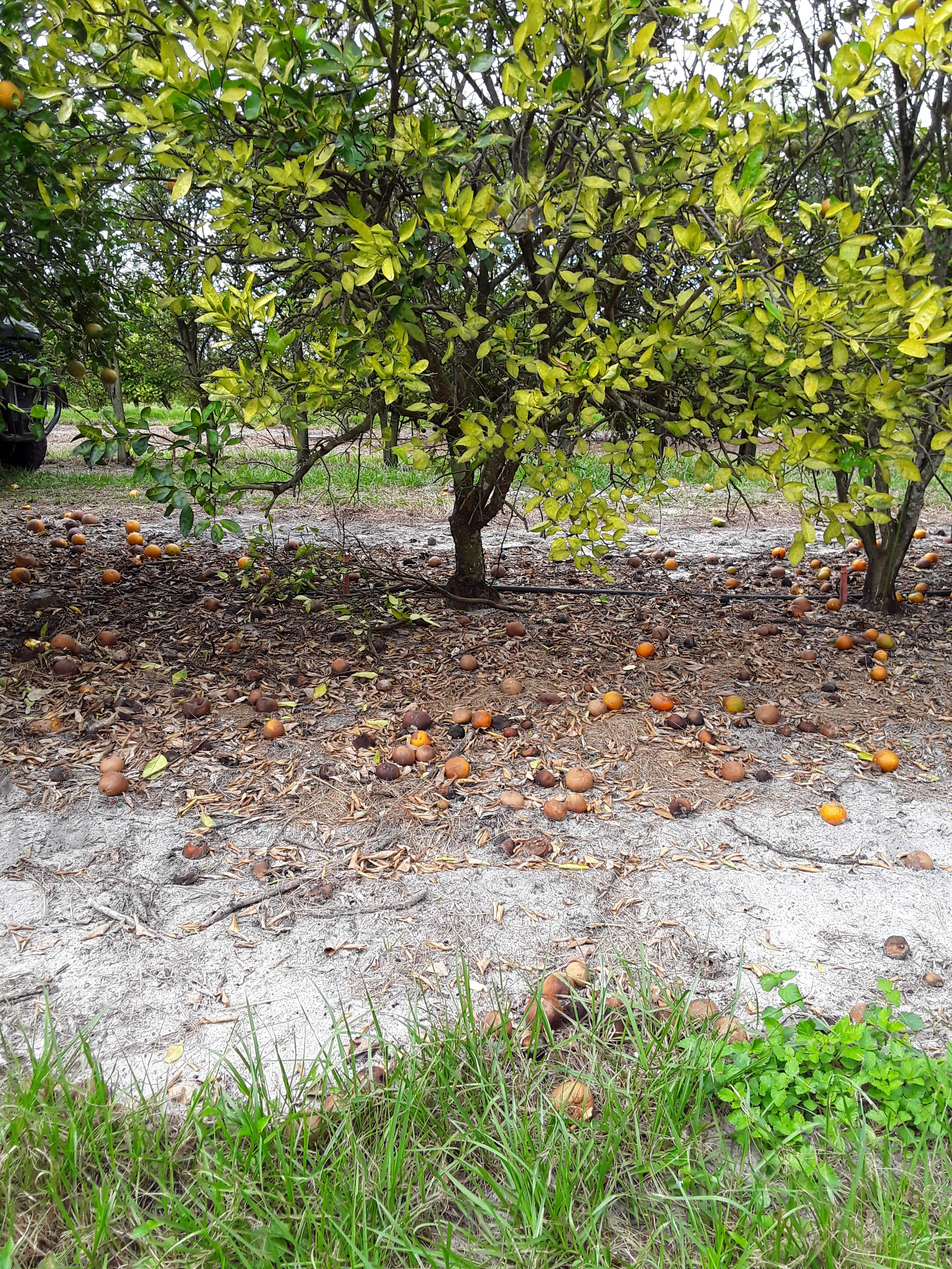fruit_on_ground: (0, 79, 25, 111), (820, 198, 841, 220), (784, 137, 803, 160), (819, 29, 837, 51), (68, 360, 87, 379), (85, 323, 105, 341), (86, 292, 104, 311), (100, 369, 118, 385), (165, 176, 181, 191), (746, 250, 758, 262)
fruit_on_tree: (545, 1077, 595, 1126), (525, 994, 566, 1030), (685, 995, 722, 1030), (711, 1016, 753, 1046), (481, 1011, 515, 1043), (540, 971, 574, 999), (879, 935, 914, 962), (818, 800, 850, 828), (567, 957, 592, 991), (98, 771, 130, 797), (872, 746, 901, 774), (563, 765, 593, 791), (523, 835, 553, 860), (402, 709, 433, 732), (905, 850, 937, 872), (181, 696, 212, 718), (669, 795, 696, 820), (443, 755, 471, 779), (750, 704, 779, 727), (184, 837, 211, 861), (719, 760, 747, 783), (497, 789, 526, 810), (849, 1004, 875, 1027), (542, 798, 566, 822), (562, 791, 589, 812), (51, 658, 80, 677), (262, 718, 286, 740), (375, 762, 401, 782), (649, 693, 676, 712), (99, 755, 126, 774), (532, 769, 557, 789), (499, 677, 525, 696), (413, 744, 437, 763), (725, 695, 746, 716), (393, 745, 415, 765), (14, 551, 37, 570), (10, 566, 32, 585), (51, 634, 76, 650), (663, 713, 688, 729), (604, 691, 625, 710), (452, 706, 473, 725), (470, 710, 492, 728), (255, 696, 278, 713), (48, 765, 71, 782), (588, 697, 608, 716), (354, 732, 374, 751), (411, 730, 432, 748), (790, 597, 813, 613), (697, 730, 716, 749), (458, 654, 478, 672), (492, 714, 512, 732), (796, 721, 821, 735), (535, 692, 564, 704), (926, 972, 945, 990), (868, 664, 888, 681), (650, 625, 671, 641), (635, 642, 656, 658), (331, 658, 350, 675), (25, 517, 45, 533), (98, 631, 118, 647), (876, 634, 896, 650), (505, 623, 527, 637), (753, 768, 775, 782), (835, 634, 853, 651), (102, 568, 121, 584), (447, 724, 466, 740), (143, 544, 163, 559), (110, 648, 130, 663), (685, 710, 705, 725), (247, 688, 264, 705), (776, 723, 794, 739), (520, 744, 539, 759), (438, 784, 457, 799), (306, 598, 326, 612), (241, 669, 262, 682), (490, 563, 507, 579), (204, 596, 221, 612), (820, 724, 836, 741), (825, 598, 844, 612), (284, 538, 301, 553), (224, 638, 241, 653), (226, 686, 243, 701), (124, 520, 142, 534), (127, 533, 145, 547), (376, 680, 394, 694), (170, 687, 189, 700), (852, 557, 867, 573), (237, 557, 254, 571), (50, 536, 68, 549), (906, 592, 924, 605), (786, 605, 804, 618), (852, 633, 870, 646), (710, 516, 729, 528), (164, 542, 180, 556), (772, 545, 786, 561), (369, 638, 385, 652), (129, 543, 146, 556), (863, 628, 880, 641), (923, 552, 939, 565), (70, 533, 87, 545), (502, 726, 519, 738), (768, 567, 786, 578), (82, 512, 97, 525), (628, 555, 643, 568), (457, 614, 472, 627), (915, 559, 931, 571), (346, 570, 362, 582), (724, 577, 740, 589), (819, 582, 835, 594), (914, 582, 930, 594), (856, 655, 873, 666), (65, 518, 79, 531), (683, 636, 698, 648), (70, 544, 86, 555), (257, 565, 273, 576), (330, 632, 346, 643), (821, 682, 838, 692), (522, 718, 535, 731), (665, 558, 679, 570), (72, 643, 86, 655), (864, 645, 878, 657), (706, 554, 719, 566), (738, 668, 750, 681), (72, 510, 86, 521), (429, 557, 443, 568), (765, 624, 779, 635), (874, 650, 888, 661), (68, 527, 83, 537), (555, 614, 570, 624), (801, 650, 816, 660), (892, 591, 904, 603), (740, 610, 756, 619), (543, 636, 555, 648), (756, 625, 769, 636), (914, 529, 928, 539), (845, 544, 859, 553), (702, 483, 714, 493), (653, 551, 665, 561), (809, 559, 821, 569), (567, 575, 579, 585), (425, 536, 438, 545), (779, 579, 792, 588), (639, 546, 653, 554), (717, 596, 728, 605), (646, 528, 658, 536), (726, 566, 736, 575), (584, 683, 593, 693), (936, 529, 947, 537), (665, 549, 677, 556), (751, 579, 760, 587), (714, 610, 726, 616), (945, 535, 952, 545), (63, 512, 74, 518), (796, 569, 805, 576)
